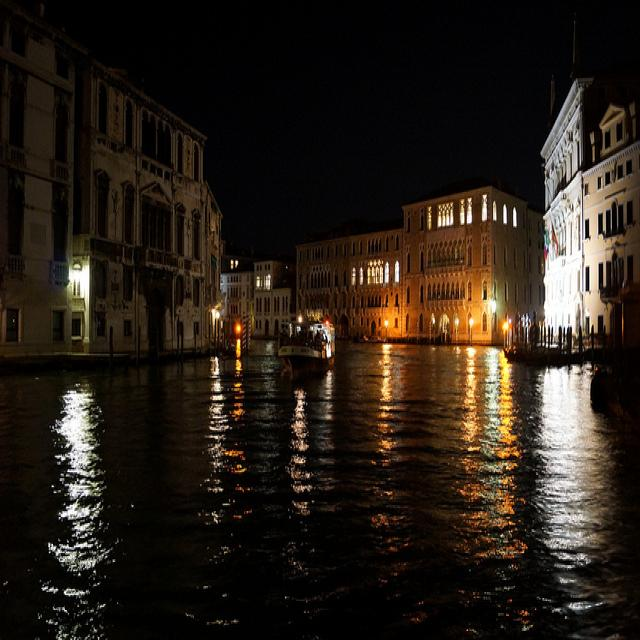Boat: (275, 307, 339, 378)
